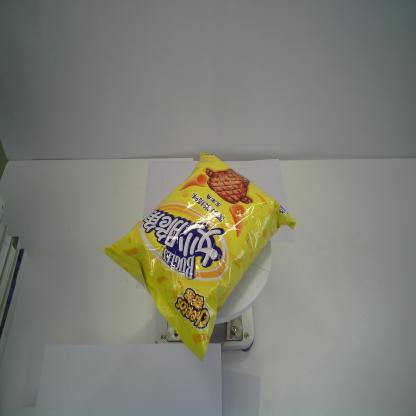Puffed Food: (102, 149, 296, 366)
